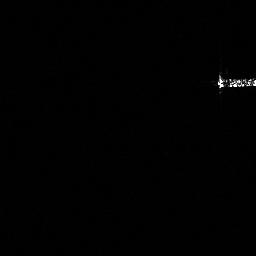ship: (212, 71, 256, 91)
